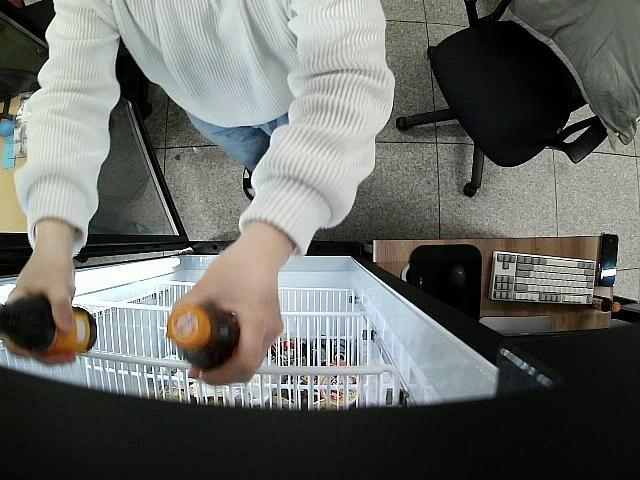17_vita500: (0, 292, 99, 356), (166, 305, 240, 370)
